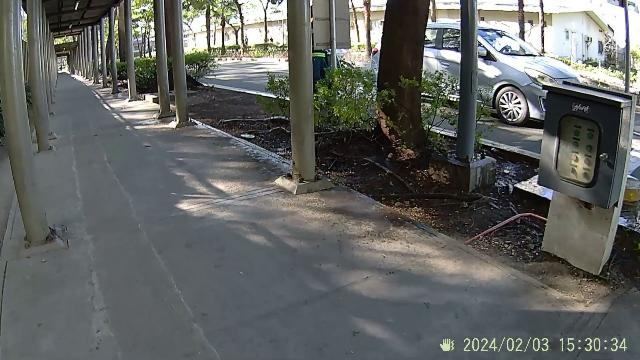utility_post: (0, 0, 70, 252), (281, 0, 334, 200), (454, 0, 490, 200), (154, 0, 198, 132), (24, 0, 54, 156)
